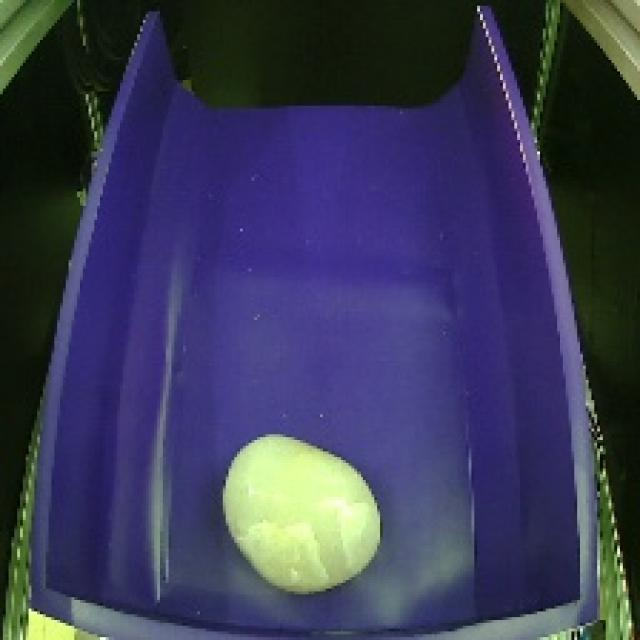cobbles: (212, 428, 392, 604)
